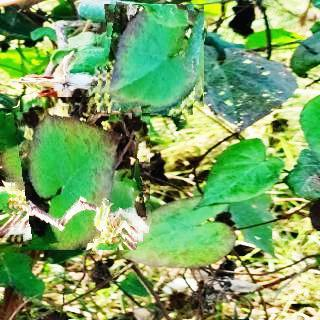leaf spot: (8, 103, 150, 244), (93, 5, 204, 115)
